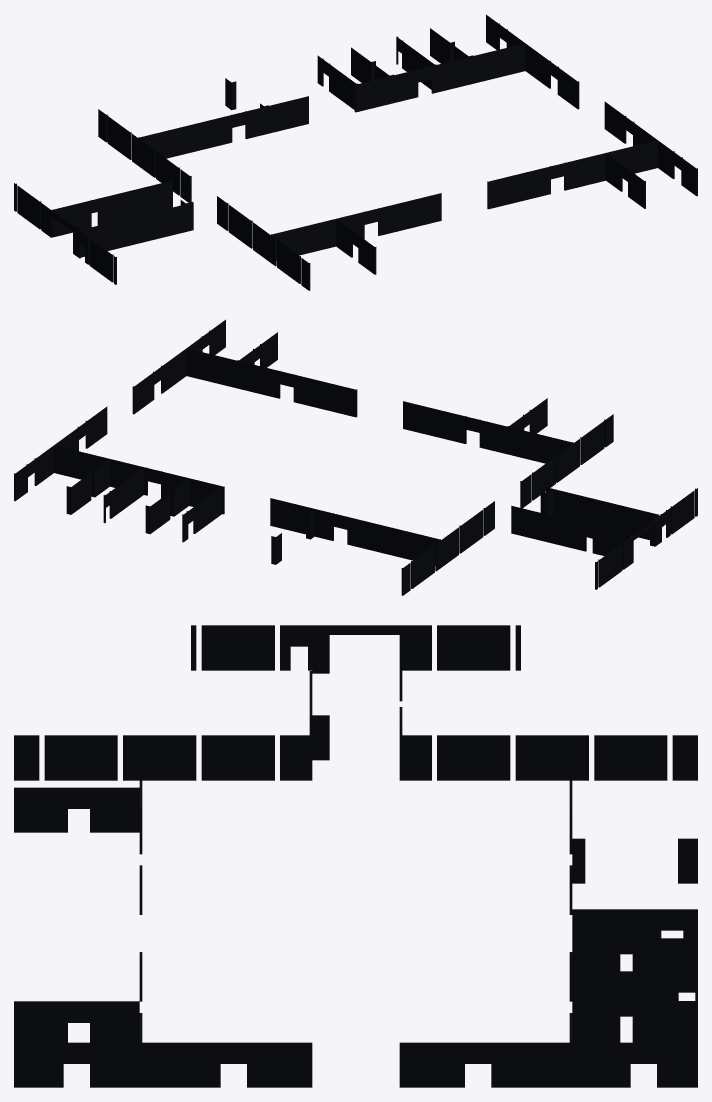
File: tt_struct_f1_walls.glb
The picture shows the model from 3 angles, top to bottom: view 1: azimuth 30°, elevation 25°; view 2: azimuth 150°, elevation 25°; view 3: azimuth 270°, elevation 25°; orthographic projection. The views are drawn at different scales.
Parts seen in each view (by area): view 1: Walls_F1; view 2: Walls_F1; view 3: Walls_F1.
Part boxes in pixels (x1,y1,x2,y2): Walls_F1: (14,14,697,290); Walls_F1: (14,319,697,595); Walls_F1: (14,625,697,1087).
Size of what is drawn, in the model's own units: 113 by 5.71 by 78.4.
Materials: 1 (1 with a texture image).
